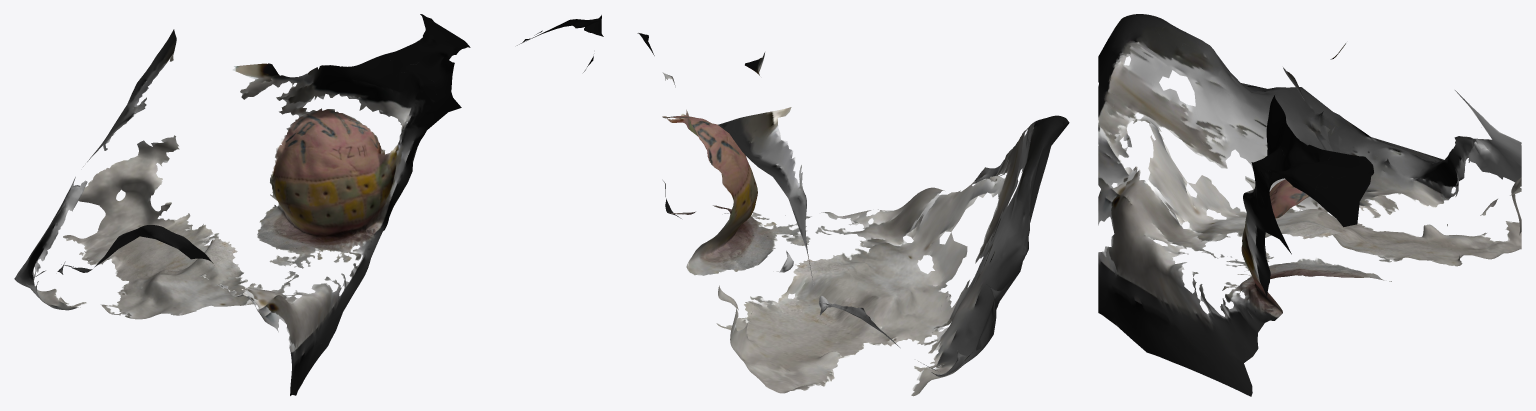
The picture shows the model from 3 angles, left to right: view 1: azimuth 30°, elevation 25°; view 2: azimuth 150°, elevation 25°; view 3: azimuth 270°, elevation 25°; orthographic projection. The views are drawn at different scales.
Size of the model in its own units: 0.9132 by 0.5309 by 0.6303.
Materials: 1 (1 with a texture image).
